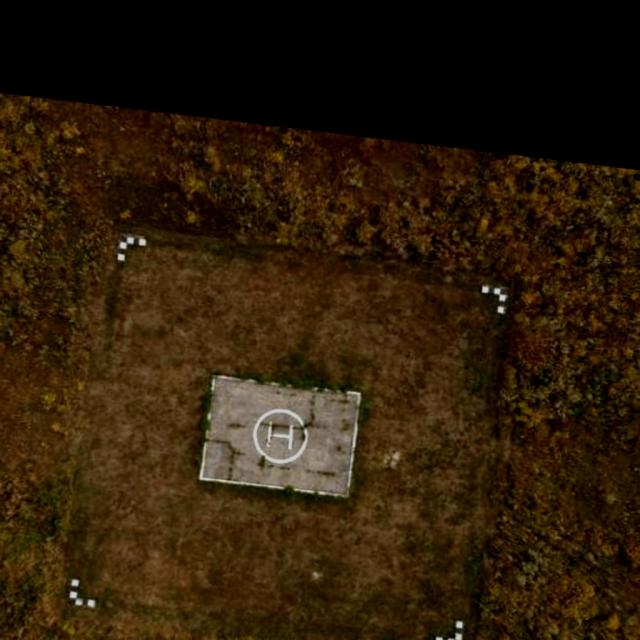helipad: (248, 404, 310, 466)
